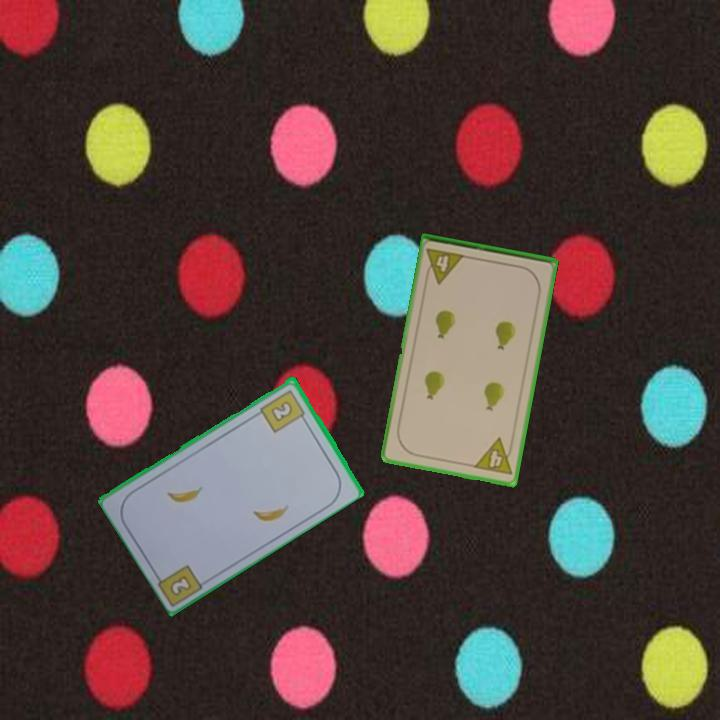2b: (257, 386, 309, 435), (166, 572, 195, 599)
4p: (470, 434, 517, 478), (422, 245, 467, 287)
